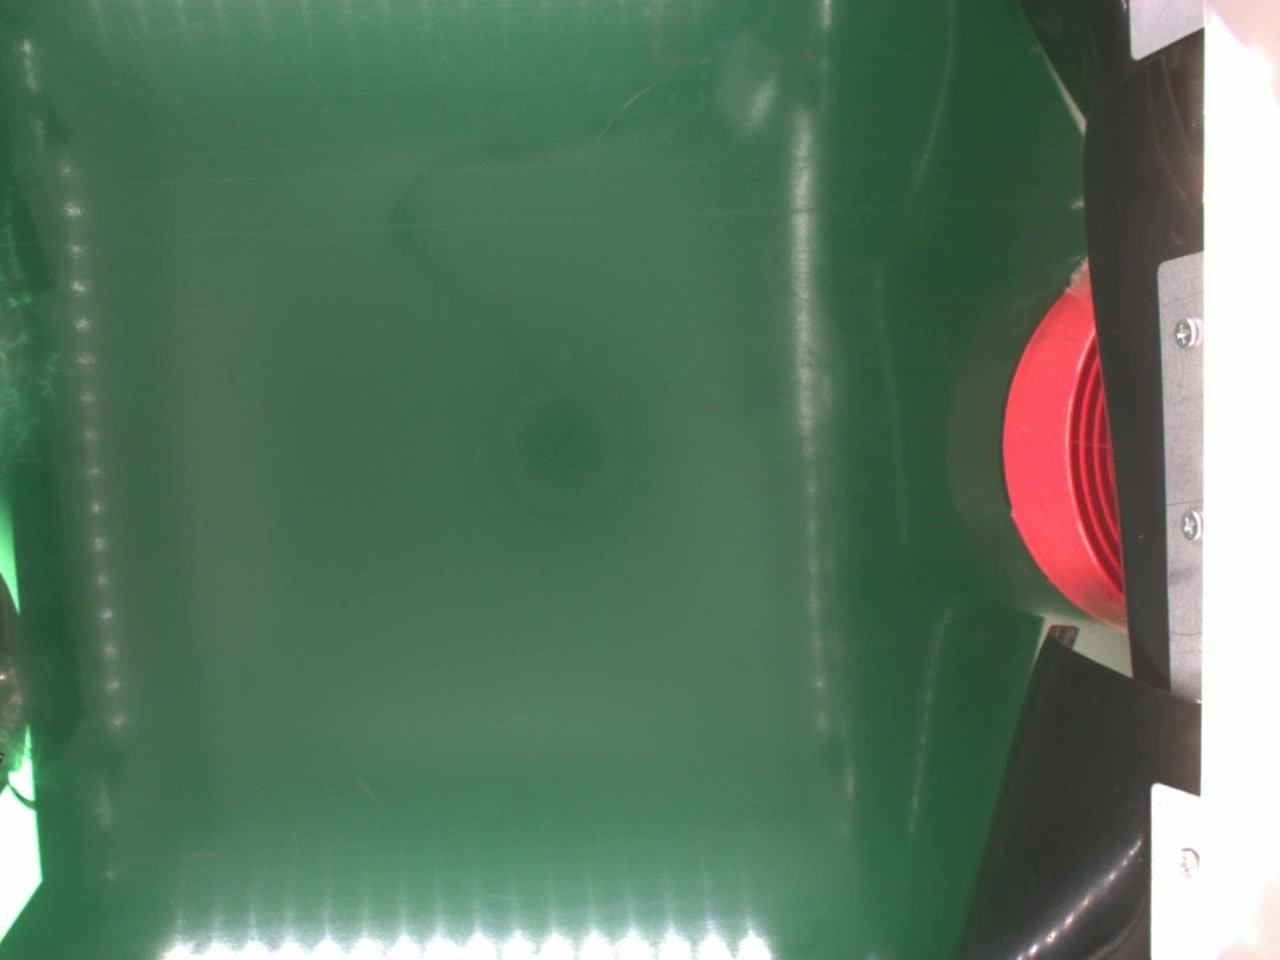red: (999, 255, 1126, 628)
